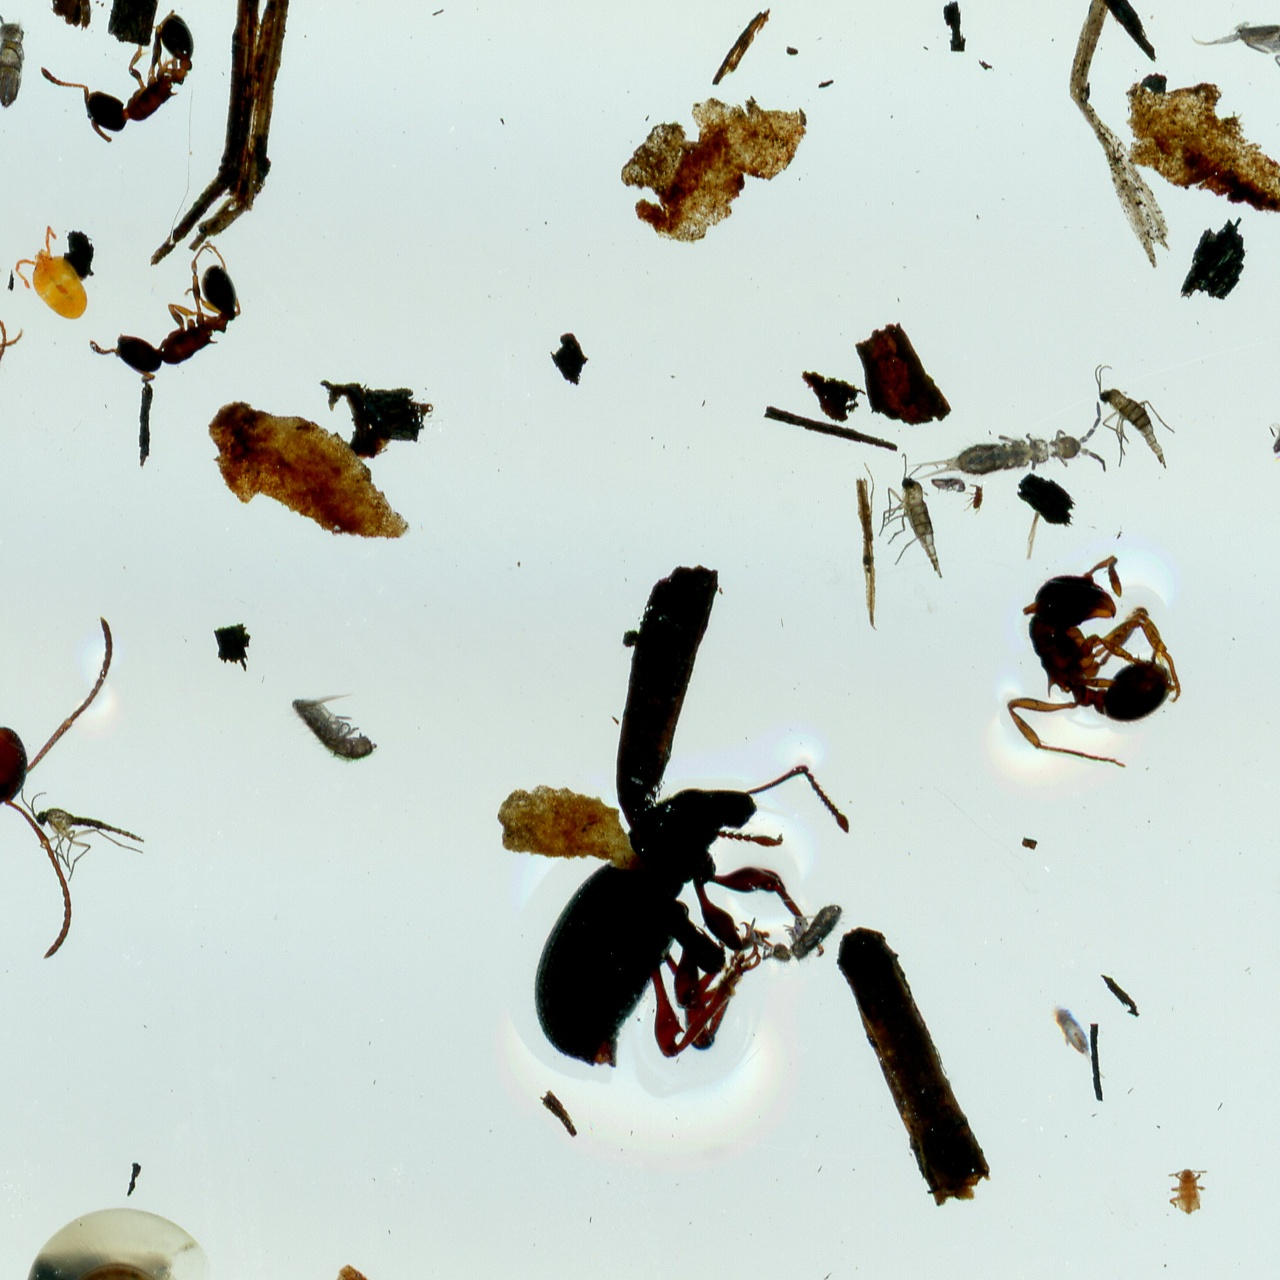arthropod: (485, 689, 914, 1148), (0, 612, 114, 960), (1003, 552, 1184, 770), (82, 232, 270, 411), (29, 0, 225, 159), (897, 399, 1111, 497), (857, 443, 972, 594), (733, 865, 855, 989), (22, 1207, 212, 1280), (15, 785, 148, 885), (1, 218, 113, 336), (1185, 0, 1280, 101), (1092, 363, 1176, 471), (287, 689, 380, 763), (1043, 998, 1119, 1085), (0, 225, 28, 452), (0, 12, 28, 111), (1253, 387, 1280, 477), (1166, 1166, 1210, 1216), (964, 484, 983, 516), (933, 476, 964, 493)
